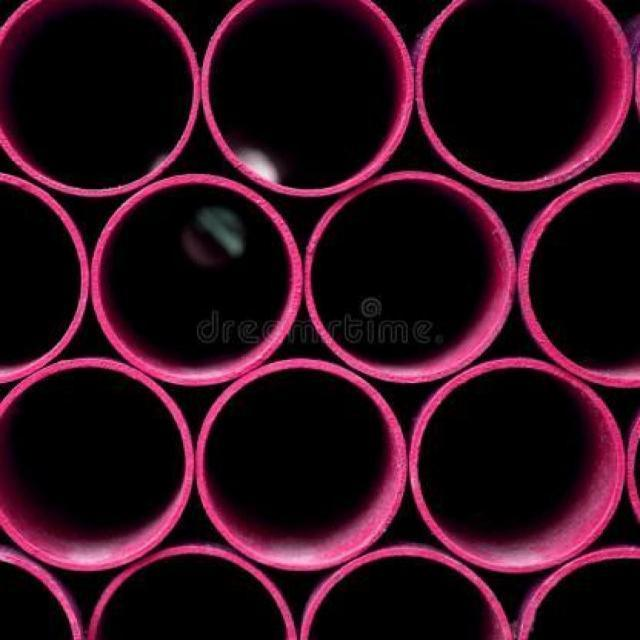pipe: (408, 358, 624, 573), (194, 358, 407, 571), (304, 170, 515, 384), (90, 174, 300, 384), (199, 0, 416, 197), (414, 0, 633, 193), (0, 357, 194, 574), (0, 0, 200, 200), (517, 169, 639, 391), (300, 544, 513, 639), (88, 545, 298, 640), (0, 175, 88, 384), (517, 543, 640, 640), (0, 541, 86, 640)
